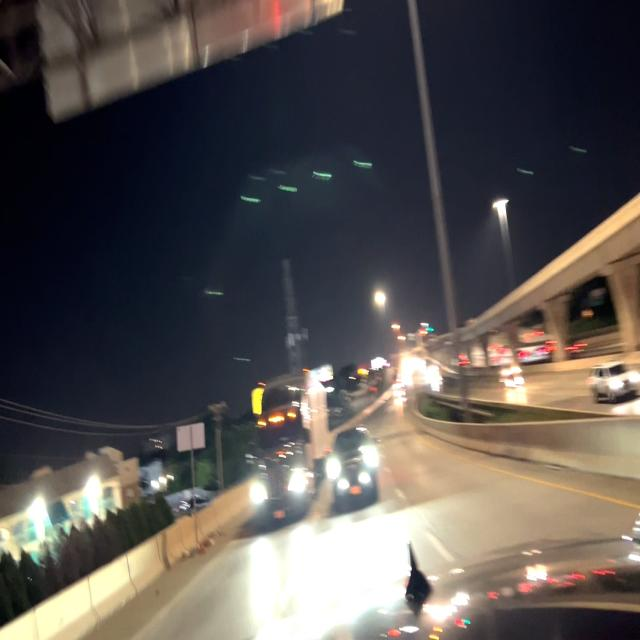back-of-sign: (1, 0, 348, 125)
